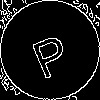P: (25, 25, 74, 80)
